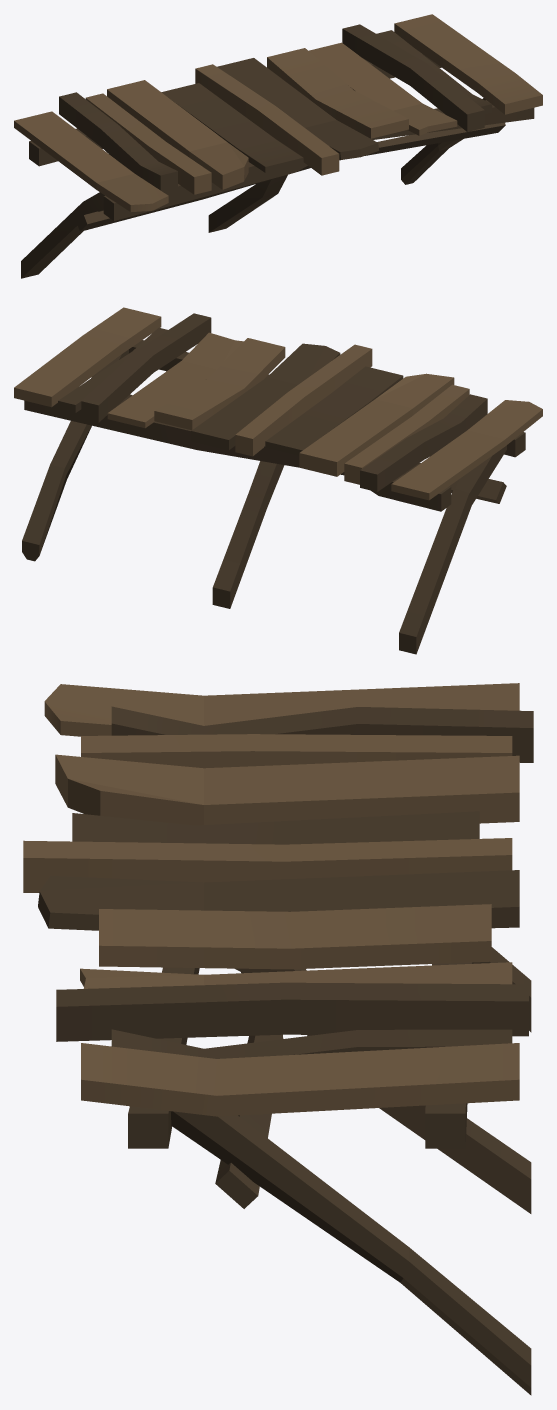
The model's file is SM_Prop_Window_Top_02.glb.
3 renders of one model, top to bottom at view 1: azimuth 30°, elevation 25°; view 2: azimuth 150°, elevation 25°; view 3: azimuth 270°, elevation 25°, orthographic. The views are drawn at different scales.
Visible parts, largest first — view 1: SM_Prop_Window_Top_02; view 2: SM_Prop_Window_Top_02; view 3: SM_Prop_Window_Top_02.
Part boxes in pixels (bbox=[...]): SM_Prop_Window_Top_02: bbox=[14, 14, 542, 278]; SM_Prop_Window_Top_02: bbox=[14, 307, 542, 654]; SM_Prop_Window_Top_02: bbox=[23, 683, 533, 1395].
Bounding box in the file's own units: 0.0322 × 0.0127 × 0.0168.
